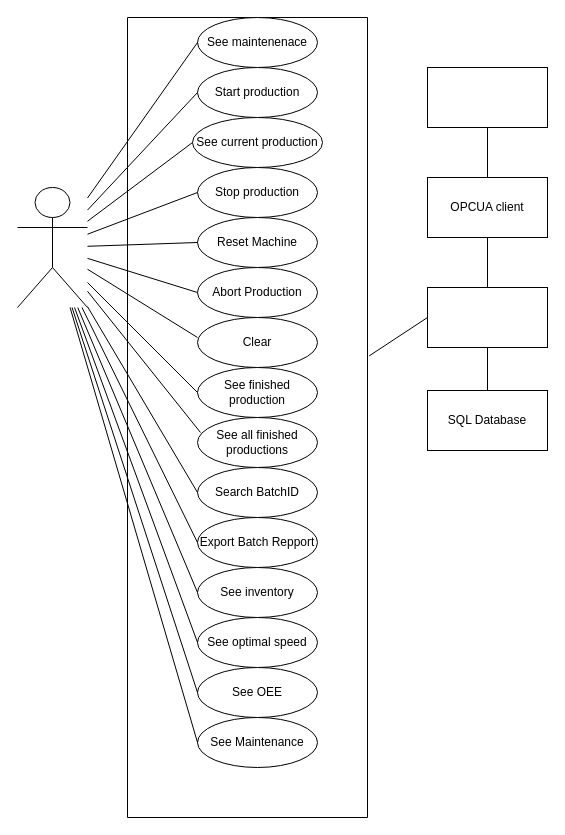
Some shapes in this 565 by 835 pixel diagram are drawn without their labels. The centre of each missing label's shape, as x and y in pixels:
OPCUA server: the point at 487,97
User: the point at 52,247
WebClient: the point at 487,317
